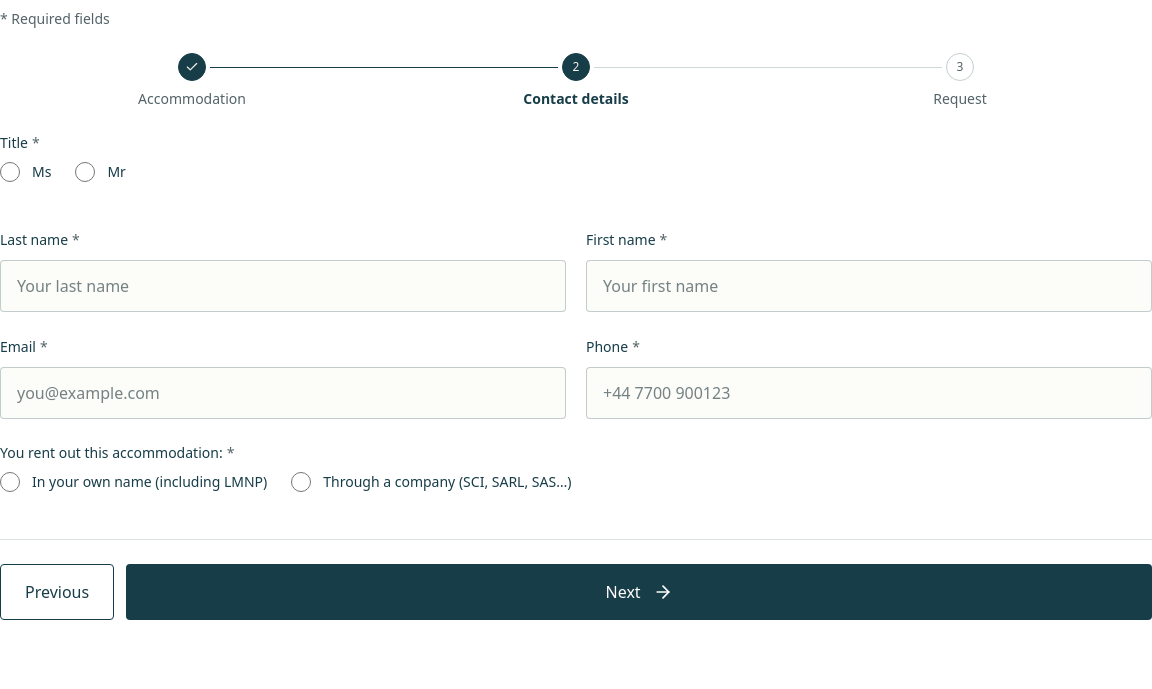
Scenario: legal links in forms › renders English privacy link in demande classement form
Earlier steps of the test are not shown.
Expected: the field labelled "Last name*" is shown, top-left (0, 260), bottom-right (566, 312)
Click the radio button labelled "Ms". click: (10, 172)
box: top-left (0, 162), bottom-right (20, 182)
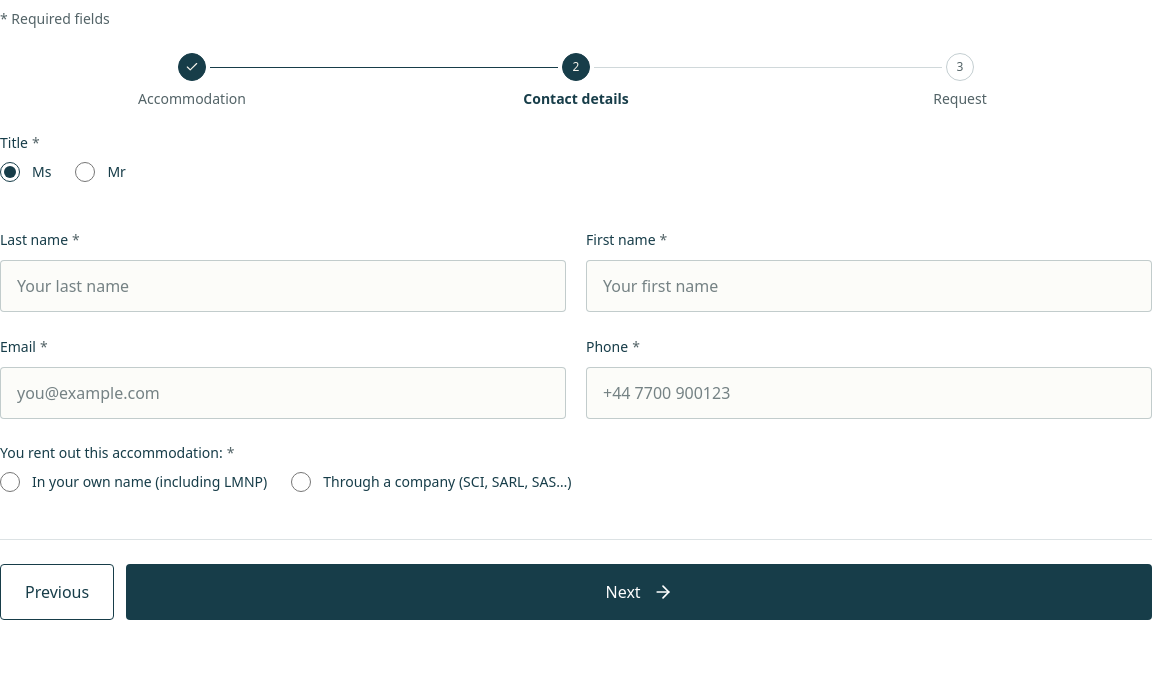
Type "Doe" into the field labelled "Last name*". click: (283, 286)
box: top-left (0, 260), bottom-right (566, 312)
Type "Jane" into the field labelled "First name*". click: (869, 286)
box: top-left (586, 260), bottom-right (1151, 312)
Type "jane@example.com" into the field labelled "Email*". click: (283, 392)
box: top-left (0, 366), bottom-right (566, 418)
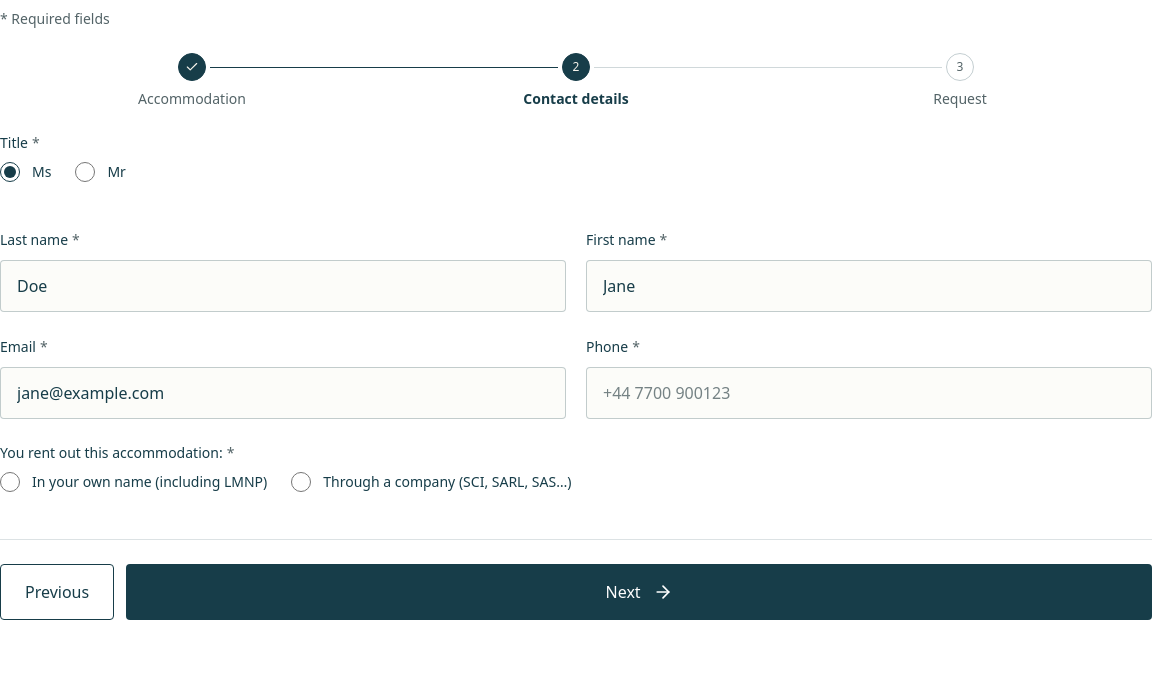
Type "06 12 34 56 78" into the field labelled "Phone*". click: (869, 392)
box: top-left (586, 366), bottom-right (1151, 418)
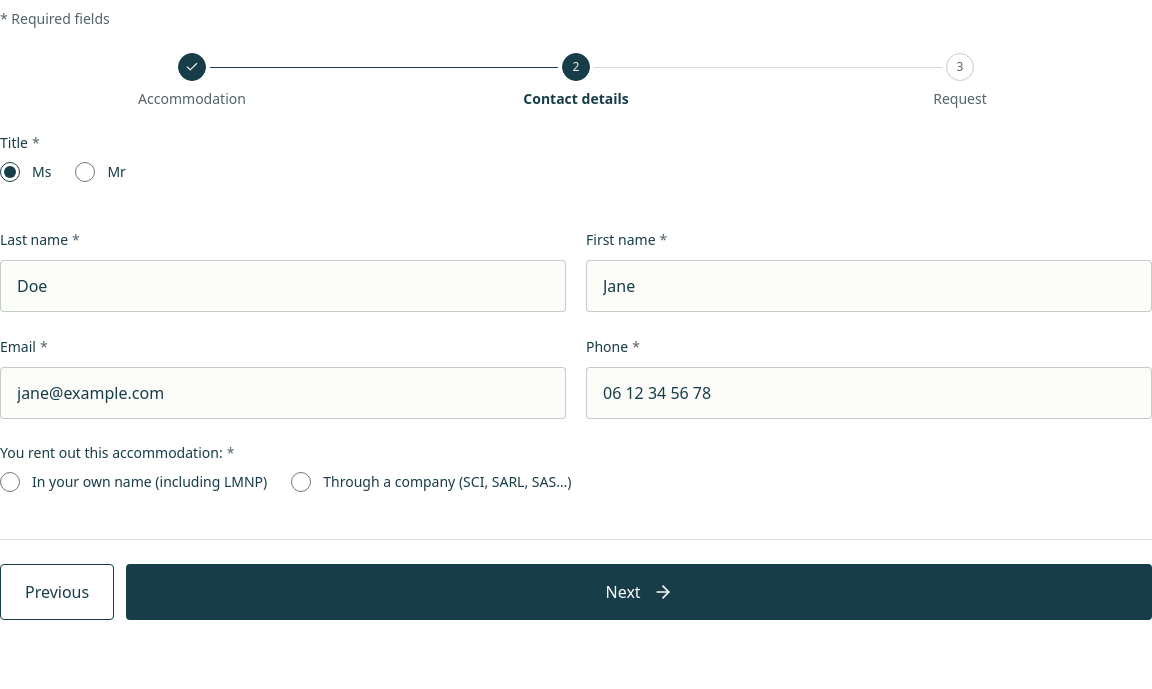
Click the radio button labelled "In your own name (including LMNP)". click: (10, 482)
box: top-left (0, 472), bottom-right (20, 492)
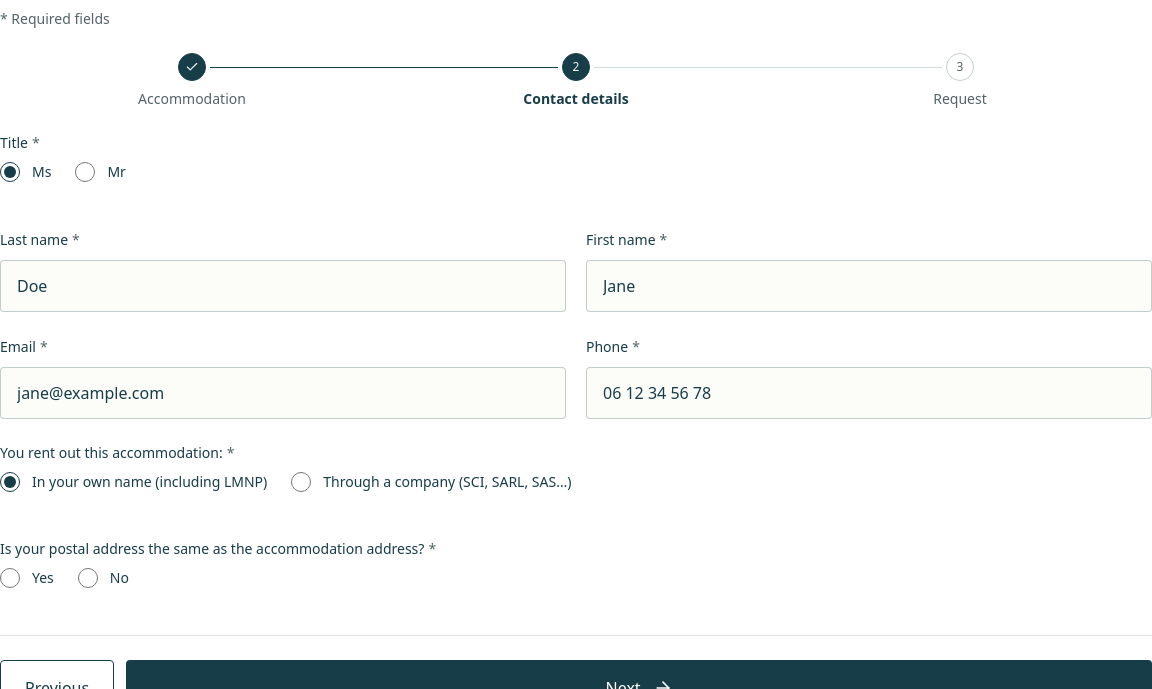
Click the radio button labelled "Yes". click: (10, 578)
box: top-left (0, 568), bottom-right (20, 588)
(page scrolled)
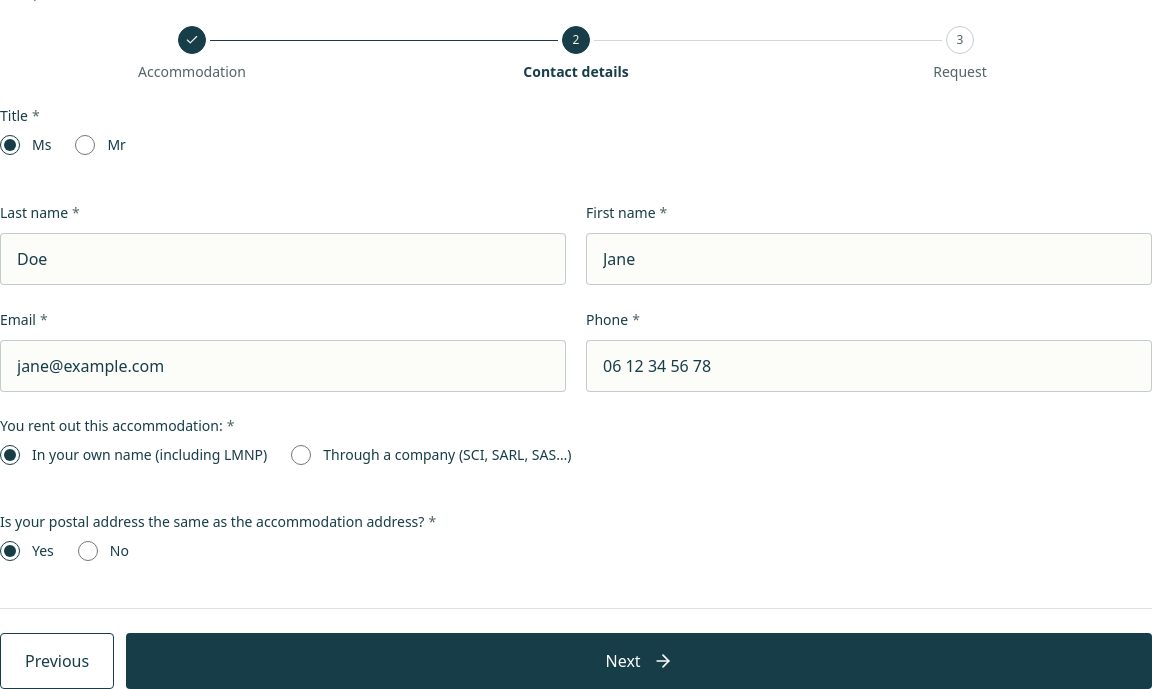
Click the button "Next". click: (639, 660)
box: top-left (126, 632), bottom-right (1151, 688)
(page scrolled)
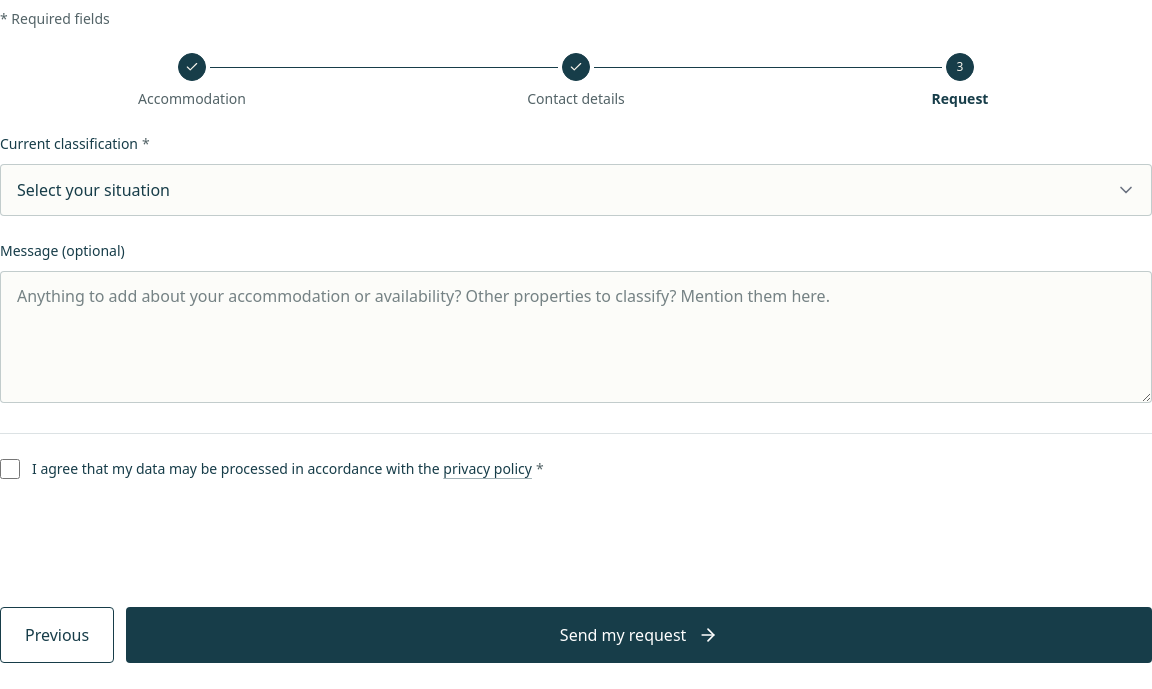
Expected: the button "Send my request" is shown, top-left (126, 606), bottom-right (1151, 662)
